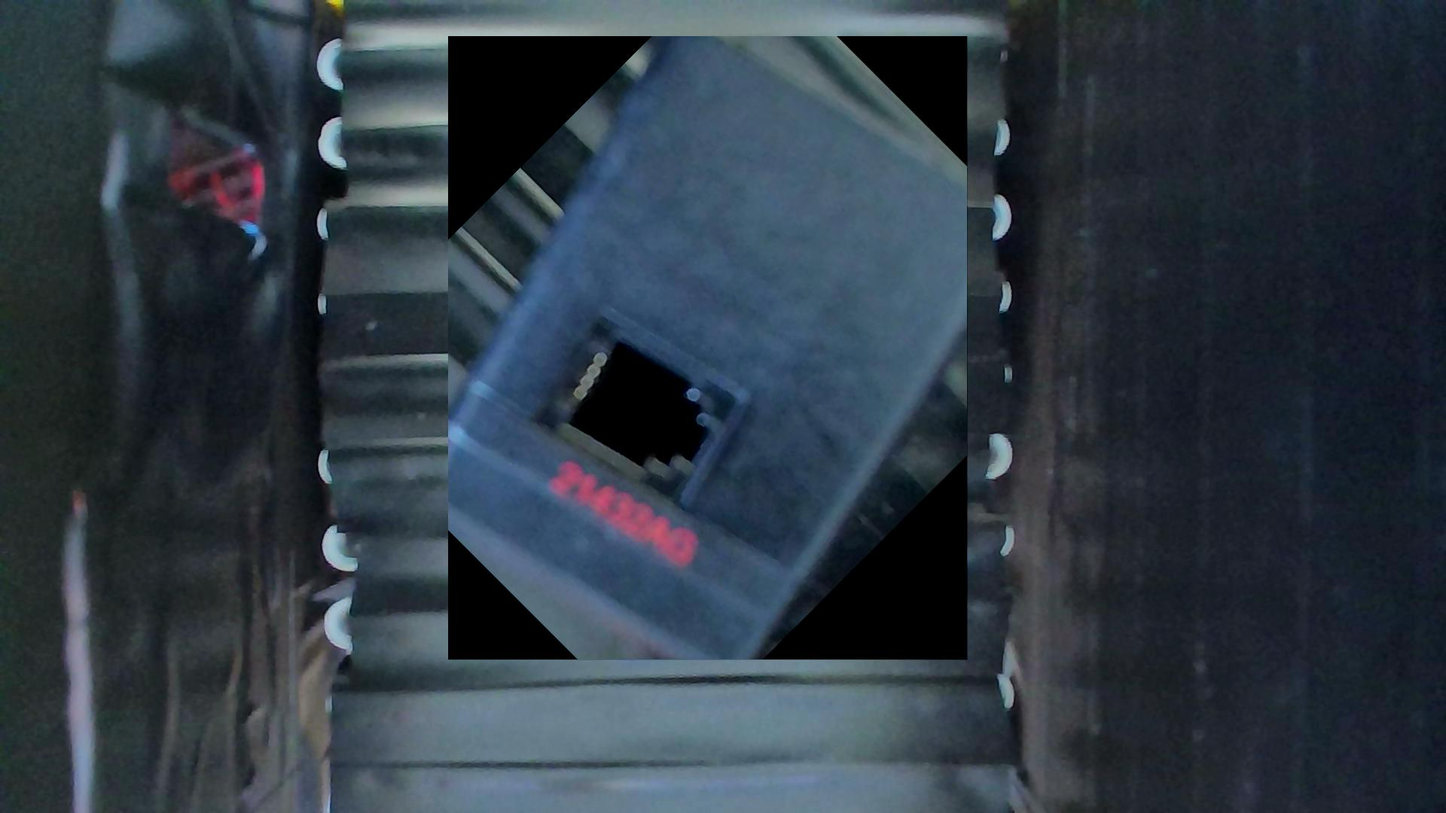motor: (449, 37, 968, 661)
